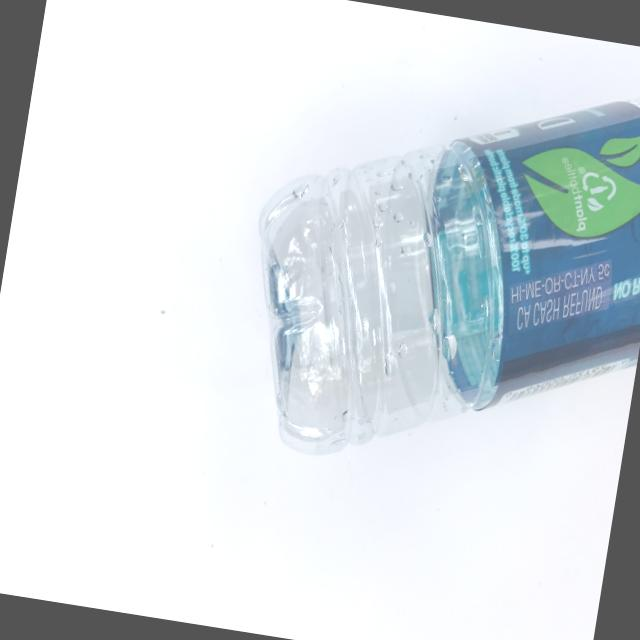Plastic: (209, 4, 640, 511)
